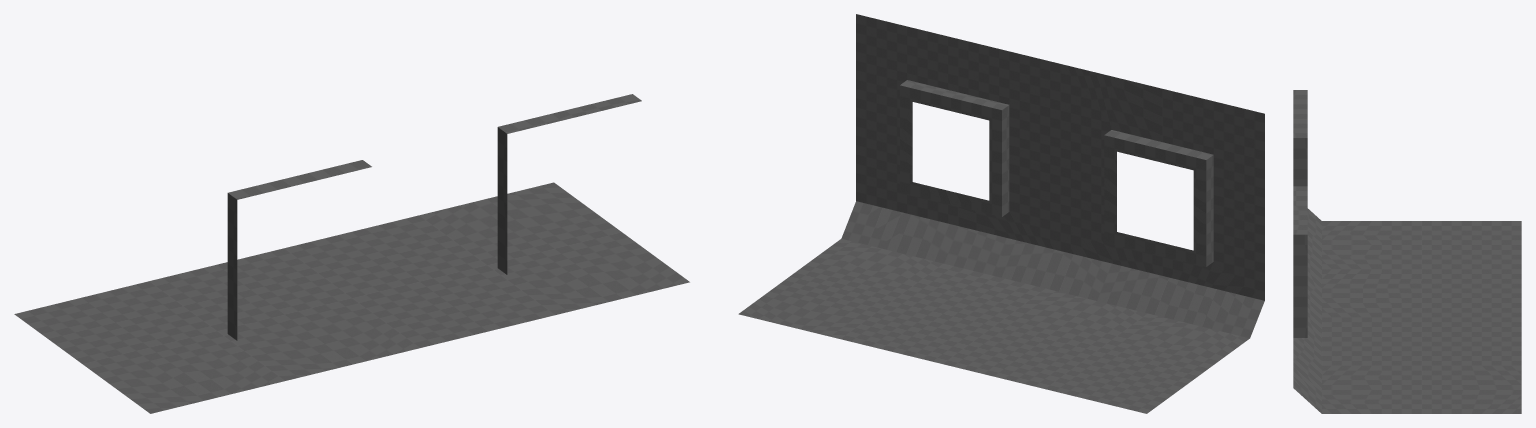
The picture shows the model from 3 angles, left to right: view 1: azimuth 30°, elevation 25°; view 2: azimuth 150°, elevation 25°; view 3: azimuth 270°, elevation 25°; orthographic projection. The views are drawn at different scales.
Visible parts, largest first — view 1: 2; view 2: 2; view 3: 2.
Boxes of the visible parts, x1,y1,x2,y2 form: 2: (14, 94, 689, 413); 2: (738, 14, 1264, 413); 2: (1293, 90, 1521, 413).
Size of the model in its own units: 4 by 2 by 2.
2 materials, 2 textured.
